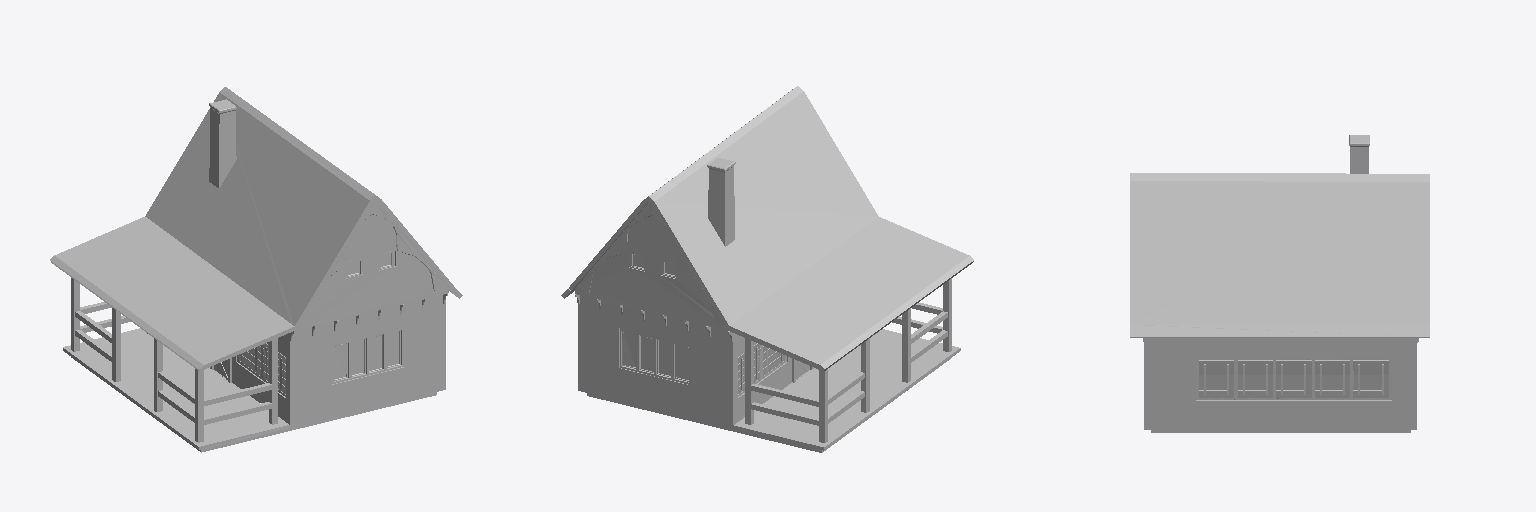
The model's file is house.obj.
3 renders of one model, left to right at view 1: azimuth 30°, elevation 25°; view 2: azimuth 150°, elevation 25°; view 3: azimuth 270°, elevation 25°, orthographic.
Visible parts, largest first — view 1: 01_Medieval_House_Low_Poly_01_med_house_lp_0; view 2: 01_Medieval_House_Low_Poly_01_med_house_lp_0; view 3: 01_Medieval_House_Low_Poly_01_med_house_lp_0.
Boxes of the visible parts, box(x1,y1,x2,y2) form: 01_Medieval_House_Low_Poly_01_med_house_lp_0: box(50, 87, 462, 452); 01_Medieval_House_Low_Poly_01_med_house_lp_0: box(561, 86, 973, 452); 01_Medieval_House_Low_Poly_01_med_house_lp_0: box(1130, 135, 1429, 432).
Size of the model in its own units: 9.13 by 7.96 by 9.